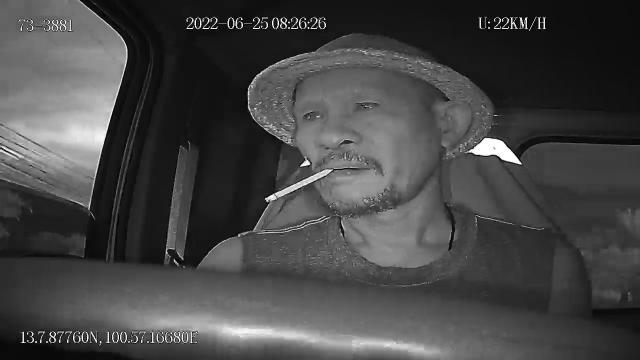SafeDriving: (348, 93, 386, 116), (296, 102, 330, 124)
Smoking: (265, 166, 335, 204)
